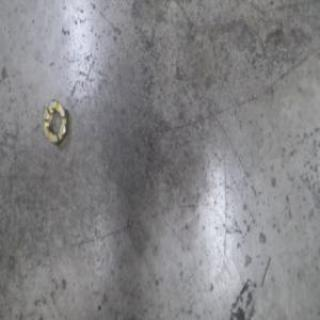Nuttrack_idkeyframe: (41, 95, 70, 146)
